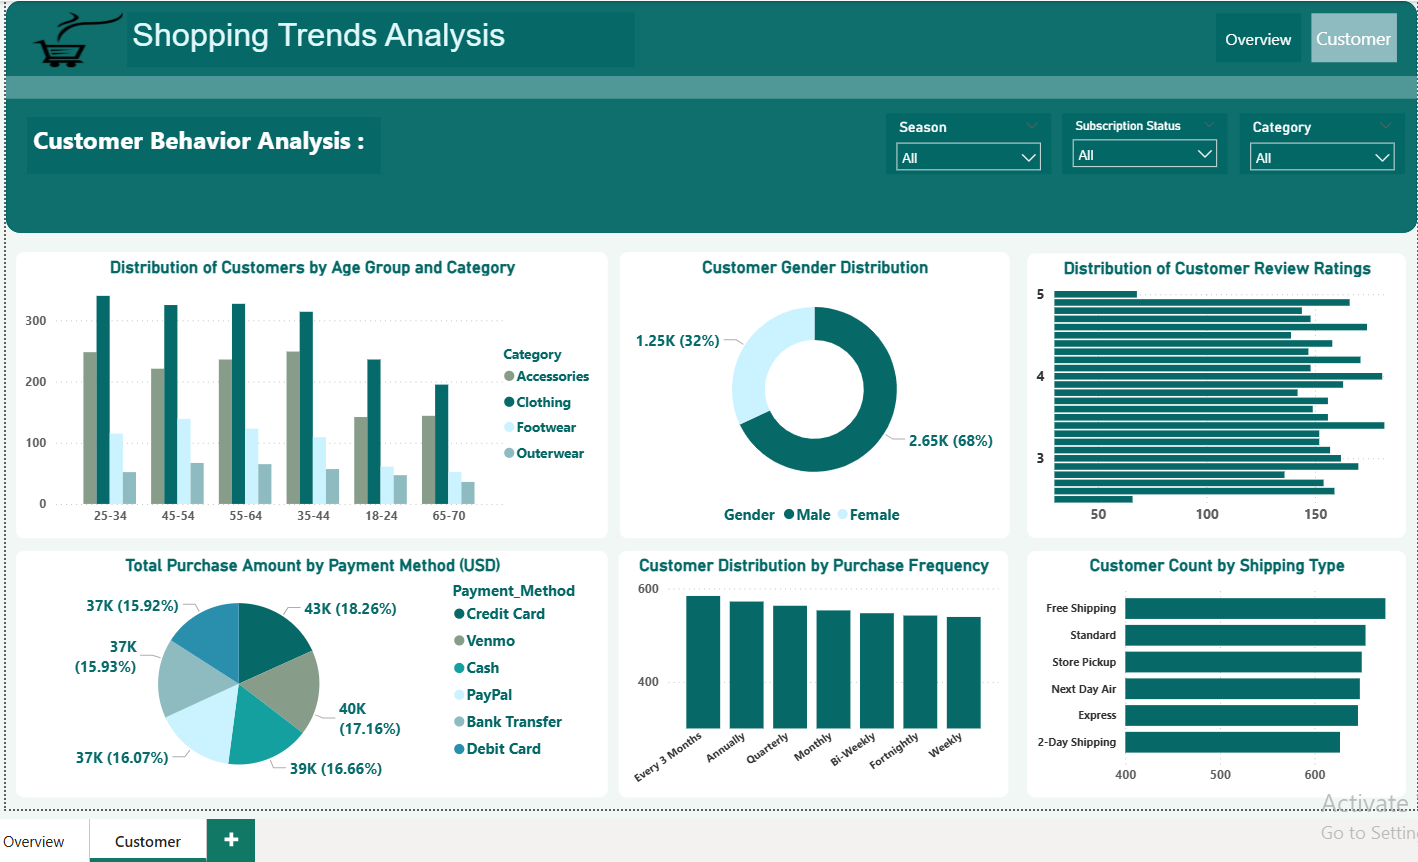

The dashboard page shown, as its layout file describes it:
{"tool":"powerbi","page":{"name":"Customer","canvas":[1393,798],"ordinal":1},"visuals":[{"type":"shape","box":[0,0,1393,229],"z":0},{"type":"shape","box":[0,74.2,1393,22.4],"z":1000},{"type":"pageNavigator","box":[1194.9,12.6,179,48.7],"z":2000},{"type":"image","box":[21,5.6,99.5,64.4],"z":3000},{"type":"textbox","box":[120,11,501,54],"z":4000},{"type":"textbox","box":[21.4,115,349,56.2],"z":5000},{"type":"donutChart","title":"Customer Gender Distribution","fields":{"Category":["Shopping.Gender"],"Y":["CountNonNull(Shopping.Customer_ID)"]},"box":[606.1,248.1,384.7,282.6],"z":6000},{"type":"clusteredColumnChart","title":"Distribution of Customers by Age Group and Category","fields":{"Category":["Shopping.Age_Group"],"Series":["Shopping.Category"],"Y":["CountNonNull(Shopping.Customer_ID)"]},"box":[9.4,248.1,584.1,282.6],"z":7000},{"type":"pieChart","title":"Total Purchase Amount by Payment Method (USD)","fields":{"Y":["Sum(Shopping.Purchase_Amount_USD)"],"Category":["Shopping.Payment_Method"]},"box":[9.4,543.3,584.1,243.4],"z":8000},{"type":"columnChart","title":"Customer Distribution by Purchase Frequency","fields":{"Category":["Shopping.Frequency_of_Purchases"],"Y":["CountNonNull(Shopping.Customer_ID)"]},"box":[604.5,543.3,384.7,243.4],"z":9000},{"type":"barChart","title":"Distribution of Customer Review Ratings","fields":{"Category":["Shopping.Review_Rating"],"Y":["CountNonNull(Shopping.Customer_ID)"]},"box":[1008,249.7,373.7,281.1],"z":10000},{"type":"barChart","title":"Customer Count by Shipping Type","fields":{"Category":["Shopping.Shipping_Type"],"Y":["CountNonNull(Shopping.Customer_ID)"]},"box":[1008,543.3,373.7,243.4],"z":11000},{"type":"slicer","fields":{"Values":["Shopping.Category"]},"box":[1218.1,111,163.1,60.2],"z":12000},{"type":"slicer","fields":{"Values":["Shopping.Subscription_Status"]},"box":[1043,111,163.1,60.2],"z":13000},{"type":"slicer","fields":{"Values":["Shopping.Season"]},"box":[869.1,111,163.1,60.2],"z":14000}]}

Visuals, with their boxes on the page's 1393x798 design canvas (x1, y1, x2, y2). These are canvas units, not pixel positions in the 1418x862 screenshot, which may show the page scaled, cropped or inside an application window:
shape: 0,0,1393,229
shape: 0,74,1393,97
pageNavigator: 1195,13,1374,61
image: 21,6,120,70
textbox: 120,11,621,65
textbox: 21,115,370,171
"Customer Gender Distribution" donutChart: 606,248,991,531
"Distribution of Customers by Age Group and Category" clusteredColumnChart: 9,248,594,531
"Total Purchase Amount by Payment Method (USD)" pieChart: 9,543,594,787
"Customer Distribution by Purchase Frequency" columnChart: 604,543,989,787
"Distribution of Customer Review Ratings" barChart: 1008,250,1382,531
"Customer Count by Shipping Type" barChart: 1008,543,1382,787
slicer - Shopping.Category: 1218,111,1381,171
slicer - Shopping.Subscription_Status: 1043,111,1206,171
slicer - Shopping.Season: 869,111,1032,171
